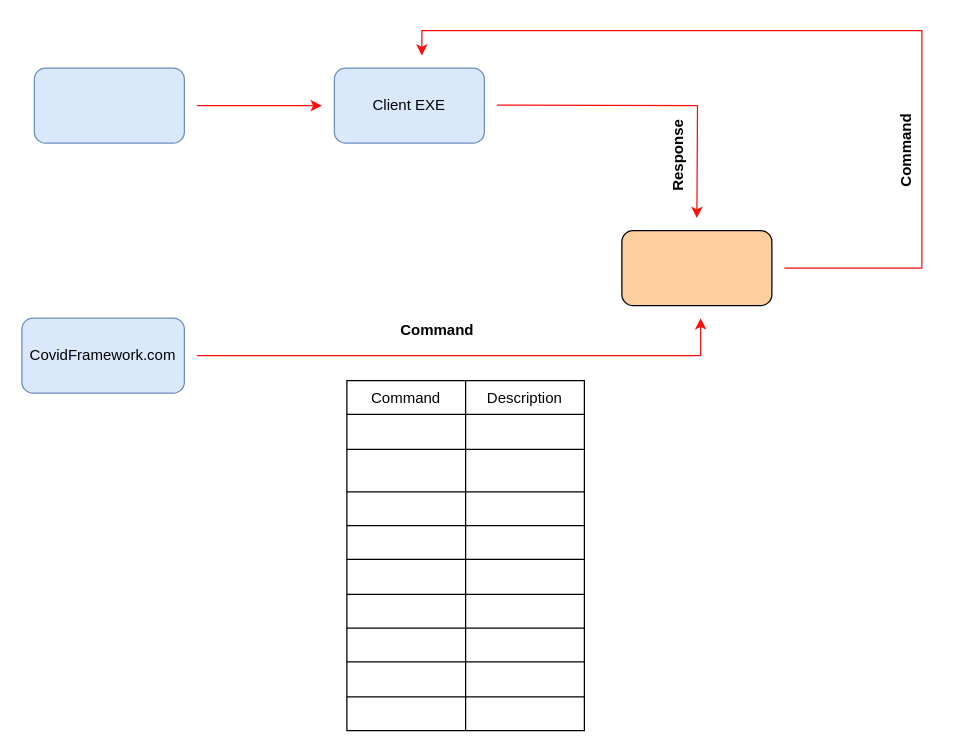
The diagram is 954 pixels wide and 753 high, and some of its shapes have lost their labels. Each missing label, with the centre of its shape:
C2: pixel 696 267
Powershell: pixel 108 105
